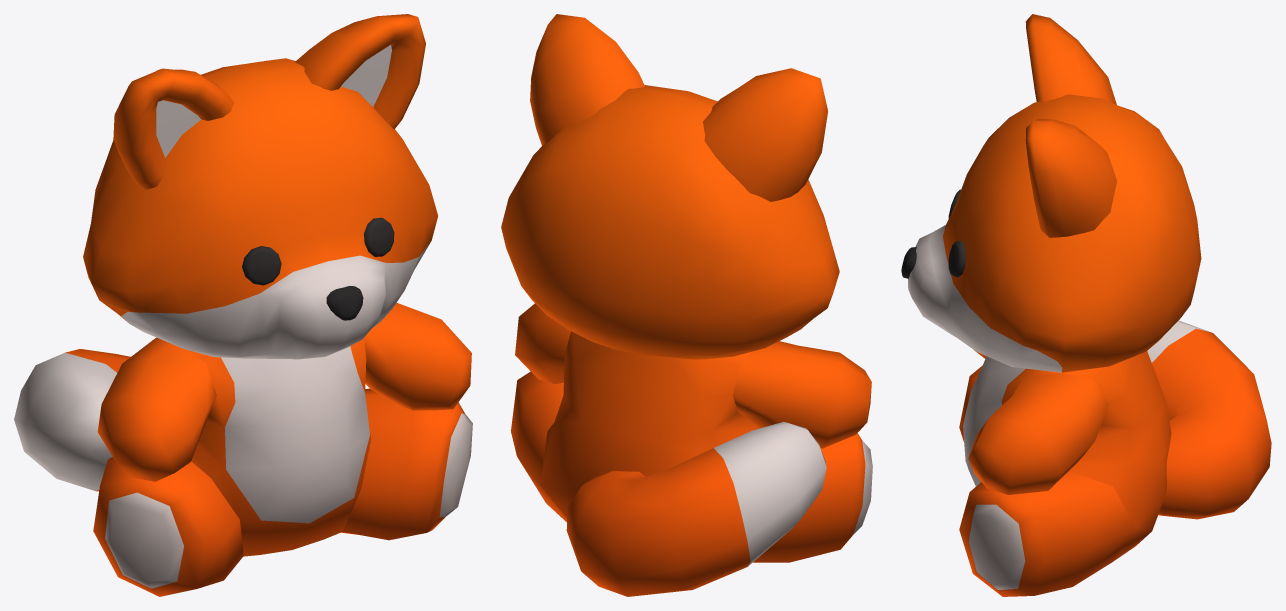
Rendered from Fox_01.fbx.
3 renders of one model, left to right at view 1: azimuth 30°, elevation 25°; view 2: azimuth 150°, elevation 25°; view 3: azimuth 270°, elevation 25°, orthographic. The views are drawn at different scales.
Visible parts, largest first — view 1: Fox_01; view 2: Fox_01; view 3: Fox_01.
Part boxes in pixels (box(x1,y1,x2,y2)): Fox_01: box(14, 14, 472, 596); Fox_01: box(501, 14, 872, 596); Fox_01: box(901, 14, 1271, 596).
Bounding box in the file's own units: 33.28 × 31.78 × 44.66.
